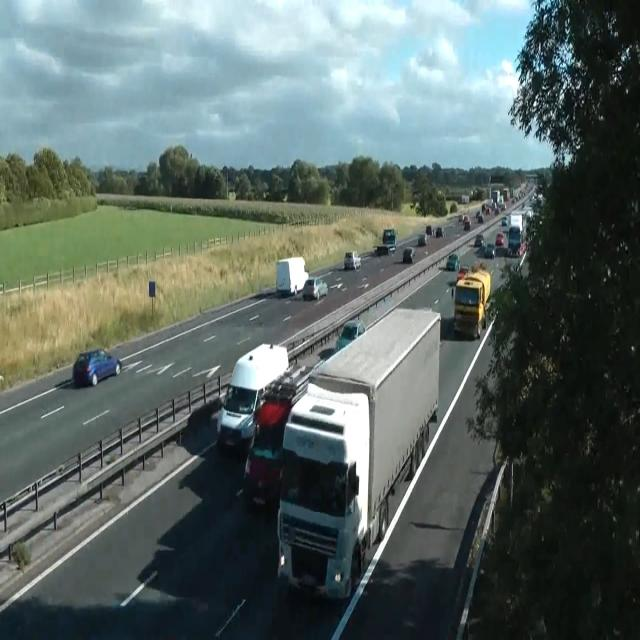bus: (242, 441, 284, 510), (72, 348, 122, 387), (336, 318, 366, 352), (302, 276, 328, 300), (344, 251, 360, 270), (446, 252, 459, 270), (403, 246, 415, 263), (456, 266, 468, 282), (484, 242, 495, 258), (418, 232, 428, 246), (374, 245, 388, 255), (474, 233, 484, 246), (433, 227, 445, 237), (495, 232, 504, 245), (463, 218, 471, 230), (476, 212, 484, 223), (426, 225, 432, 235), (501, 217, 507, 226)
car: (276, 306, 442, 600)
jeep: (242, 360, 321, 510), (216, 342, 289, 454), (507, 224, 521, 254)
minibus: (451, 268, 491, 338), (276, 256, 308, 296), (374, 229, 396, 255), (491, 190, 505, 212), (510, 212, 523, 234), (462, 194, 469, 203)
